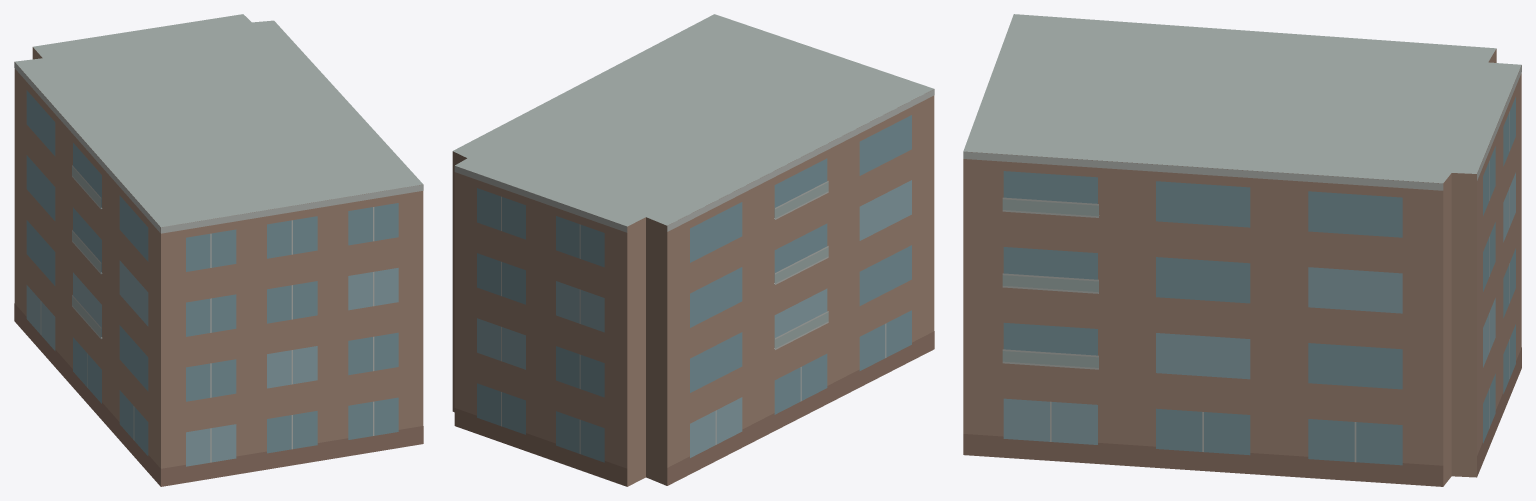
File: survey-upis-32571201.glb
The picture shows the model from 3 angles, left to right: view 1: azimuth 30°, elevation 25°; view 2: azimuth 150°, elevation 25°; view 3: azimuth 270°, elevation 25°; orthographic projection. The views are drawn at different scales.
Parts seen in each view (by area): view 1: survey-upis-32571201.tmp; view 2: survey-upis-32571201.tmp; view 3: survey-upis-32571201.tmp.
Part boxes in pixels (bbox=[...]): survey-upis-32571201.tmp: bbox=[14, 14, 423, 486]; survey-upis-32571201.tmp: bbox=[452, 14, 934, 486]; survey-upis-32571201.tmp: bbox=[963, 14, 1521, 486].
Size of the model in its own units: 11.98 by 10 by 16.69.
